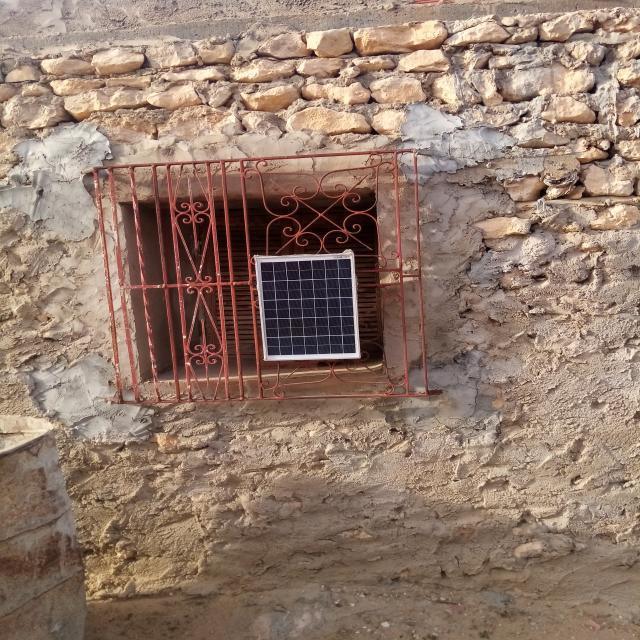no faulty: (256, 254, 361, 361)
